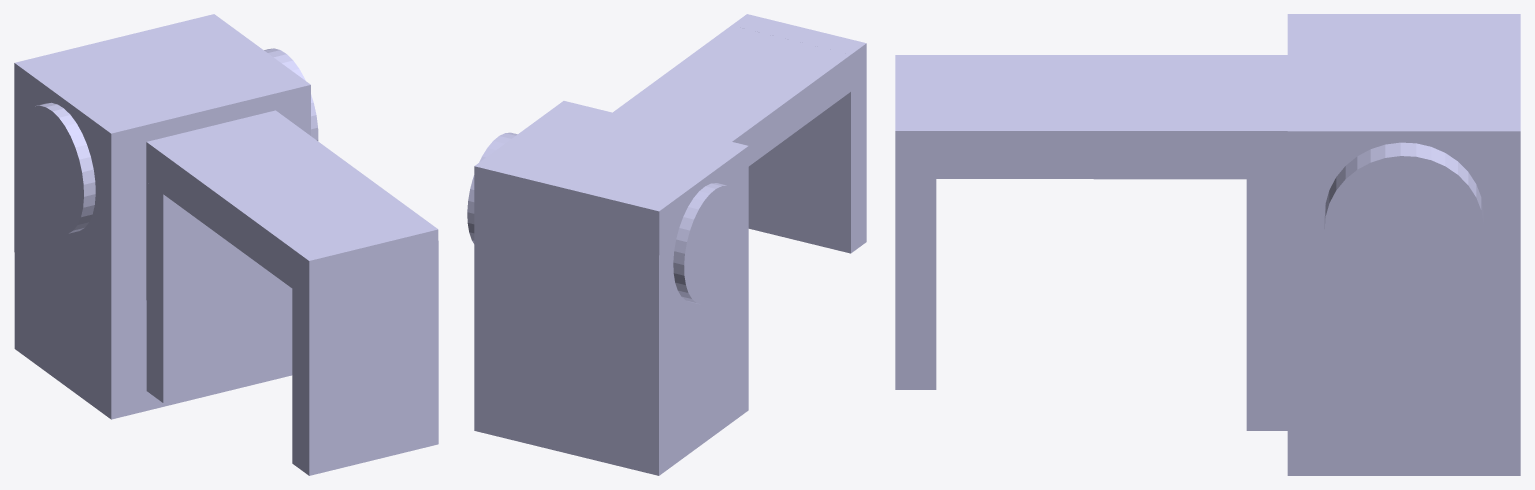
The model's file is dbAlpha_URDF_Leg_Abdomen_MidRight_Link1__78__.dae.
3 renders of one model, left to right at view 1: azimuth 30°, elevation 25°; view 2: azimuth 150°, elevation 25°; view 3: azimuth 270°, elevation 25°, orthographic. The views are drawn at different scales.
Parts seen in each view (by area): view 1: Node_0x7f7afcdf2ec0 (×5); view 2: Node_0x7f7afcdf2ec0 (×4); view 3: Node_0x7f7afcdf2ec0 (×5).
Part boxes in pixels (<box>): Node_0x7f7afcdf2ec0 (×5): <box>14,14,438,475</box>; Node_0x7f7afcdf2ec0 (×4): <box>467,14,866,475</box>; Node_0x7f7afcdf2ec0 (×5): <box>895,14,1520,475</box>.
Bounding box in the file's own units: 0.0399 × 0.0465 × 0.0765.
